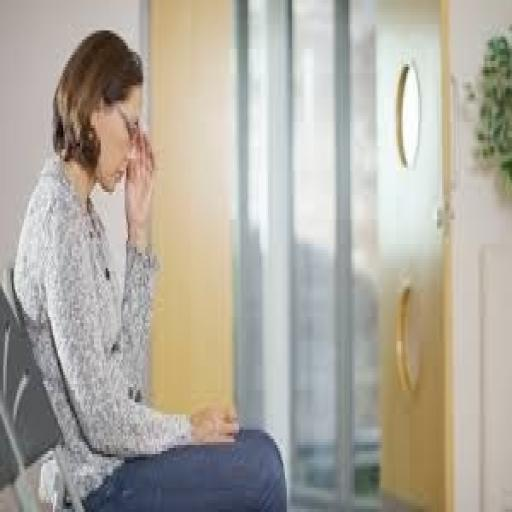sitting: (12, 24, 288, 509)
